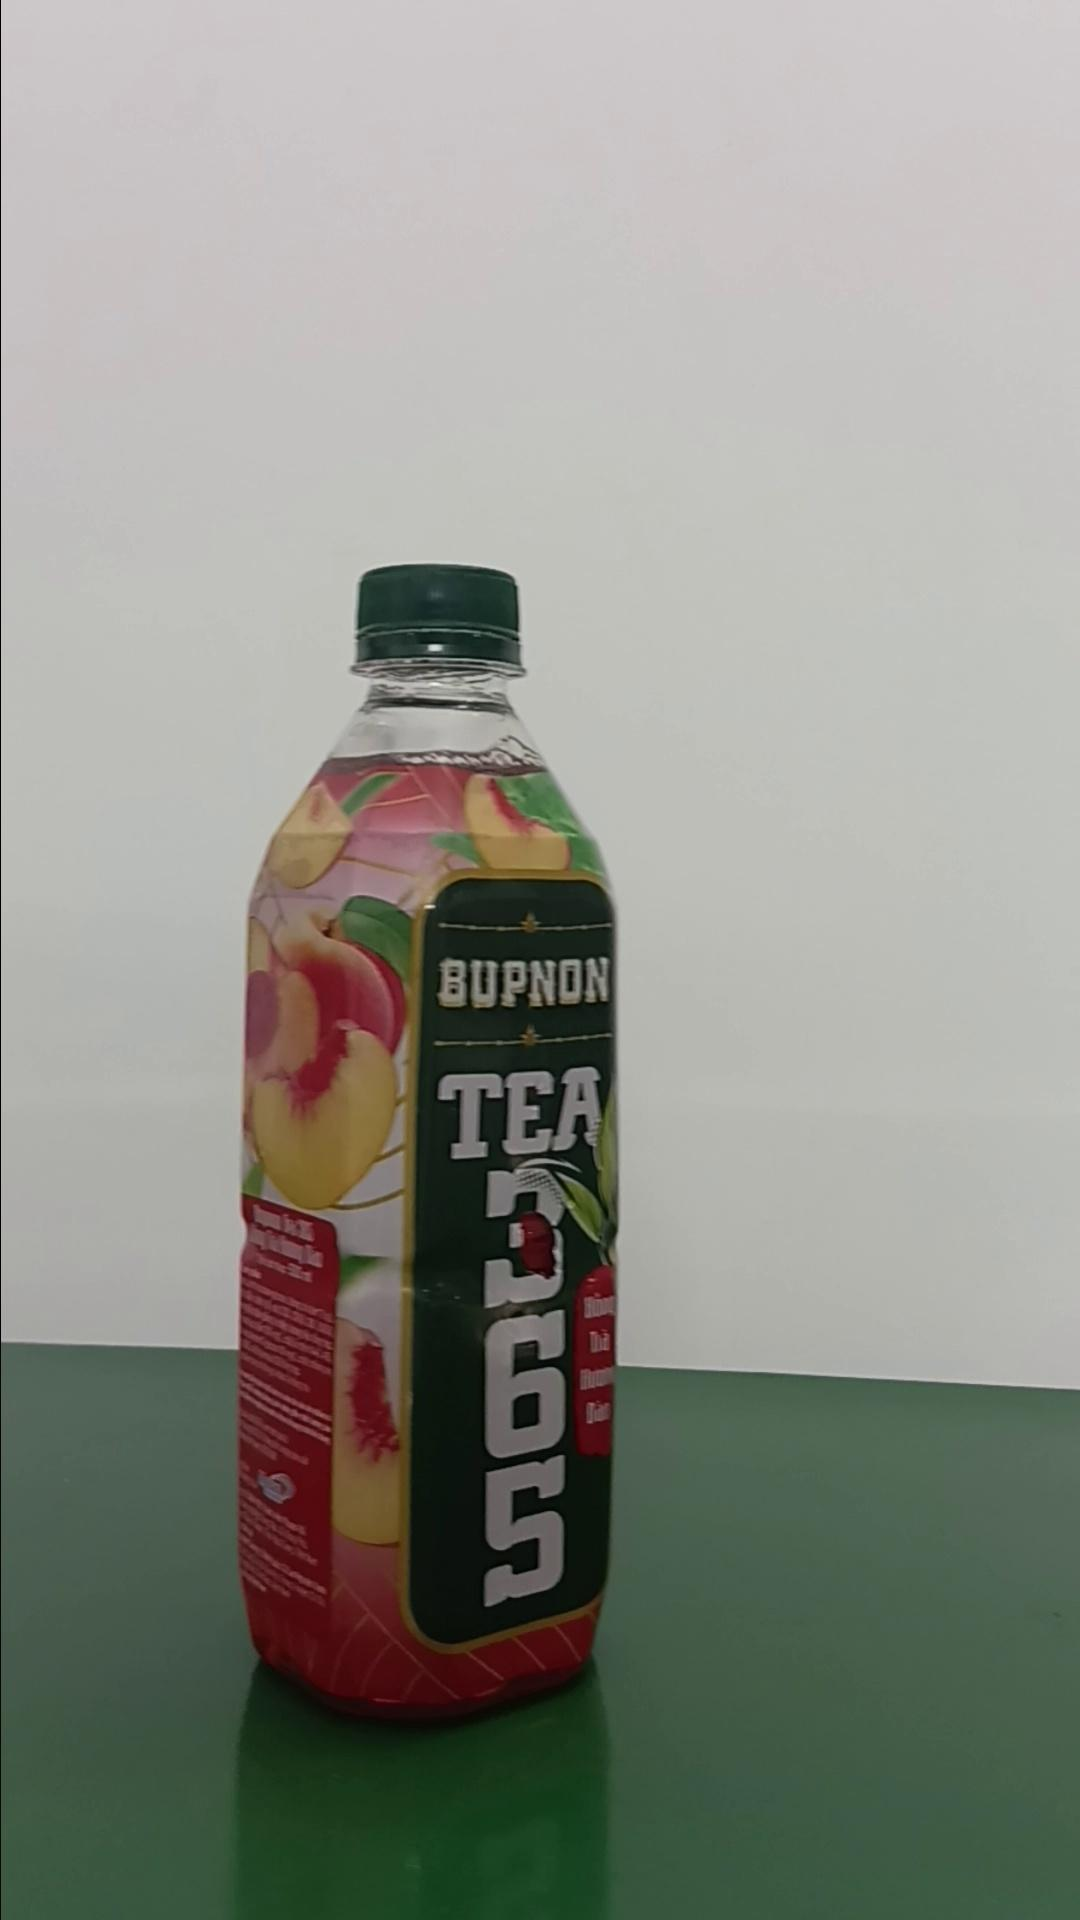loi rach va lap chai: (243, 551, 622, 1734)
